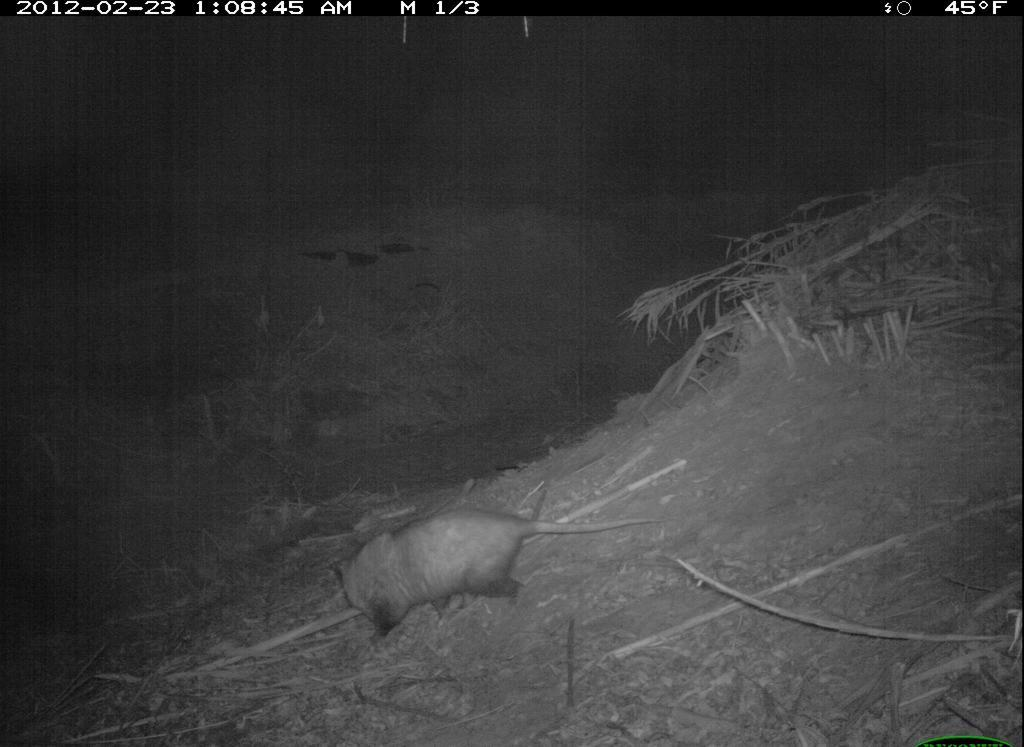opossum: (312, 506, 656, 643)
